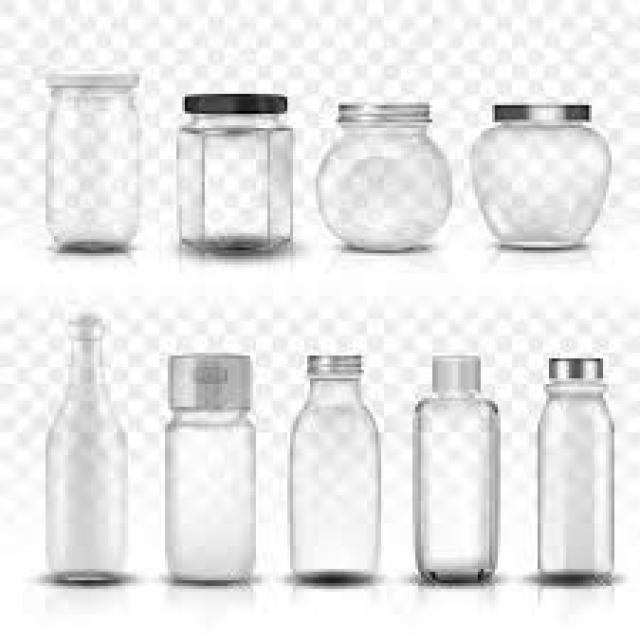Anorganik: (46, 319, 122, 583), (285, 376, 381, 583), (310, 122, 449, 250), (469, 120, 606, 244), (174, 111, 290, 250), (412, 387, 495, 580), (162, 404, 250, 580), (40, 85, 136, 245), (534, 378, 608, 578), (162, 347, 250, 407), (180, 91, 284, 111), (40, 66, 134, 88), (429, 350, 478, 390), (333, 102, 429, 122), (484, 102, 586, 120), (544, 353, 598, 381), (304, 352, 362, 372)
